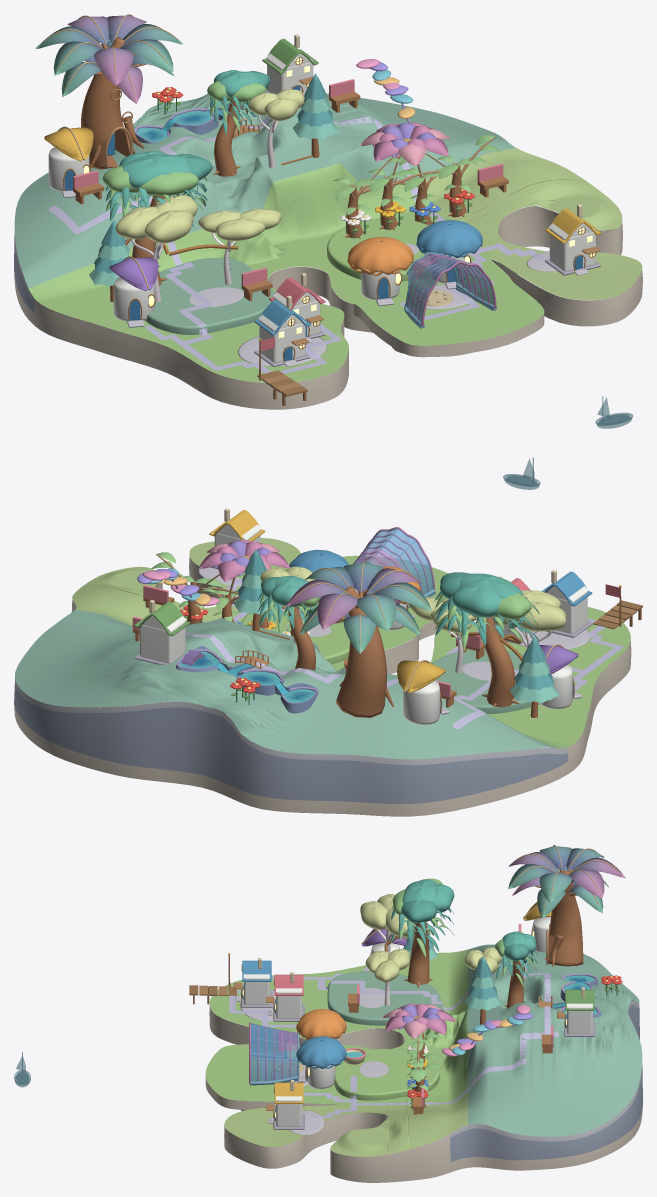
The model's file is study.glb.
3 views of the same model, one above another, from view 1: azimuth 30°, elevation 25°; view 2: azimuth 150°, elevation 25°; view 3: azimuth 270°, elevation 25° (orthographic). The views are drawn at different scales.
Visible parts, largest first — view 1: authored-evaluated-floor, Coast / continuous layered shore:0, grove / living violet and jade lamina, growing-reachable-paths, growing-objects, sculpted tree wood.002, authored-bank.051, Harbor__continuous_translucent_shell_hall_1, home / scalloped blue cap, home / scalloped blue cap.001, house / porcelain plaster.007, role-l14-2234 (+32 smaller); view 2: authored-evaluated-floor, Coast / continuous layered shore:1, Coast / continuous layered shore:0, grove / living violet and jade lamina, Coast / continuous layered shore:2, sculpted tree wood.002, growing-reachable-paths, Harbor__continuous_translucent_shell_hall_1, growing-objects, role-l14-2743, house / porcelain plaster.004, house / porcelain plaster.002 (+27 smaller); view 3: authored-evaluated-floor, Coast / continuous layered shore:0, grove / living violet and jade lamina, Coast / continuous layered shore:1, growing-reachable-paths, sculpted tree wood.002, Harbor__continuous_translucent_shell_hall_1, growing-objects, home / scalloped blue cap.001, home / scalloped blue cap, growing-relation-C02, Coast / continuous layered shore:2 (+23 smaller).
Part boxes in pixels (<box>): authored-evaluated-floor: <box>14,89,642,382</box>; Coast / continuous layered shore:0: <box>14,206,642,409</box>; grove / living violet and jade lamina: <box>35,15,182,103</box>; growing-reachable-paths: <box>49,116,544,373</box>; growing-objects: <box>73,79,506,306</box>; sculpted tree wood.002: <box>81,37,144,169</box>; authored-bank.051: <box>353,304,544,357</box>; Harbor__continuous_translucent_shell_hall_1: <box>406,257,493,322</box>; home / scalloped blue cap: <box>347,237,413,274</box>; home / scalloped blue cap.001: <box>416,220,482,257</box>; house / porcelain plaster.007: <box>548,223,596,271</box>; role-l14-2234: <box>121,154,190,188</box>; authored-evaluated-floor: <box>15,538,630,759</box>; Coast / continuous layered shore:1: <box>14,609,568,804</box>; Coast / continuous layered shore:0: <box>14,555,631,816</box>; grove / living violet and jade lamina: <box>286,562,431,653</box>; Coast / continuous layered shore:2: <box>15,604,567,765</box>; sculpted tree wood.002: <box>336,586,393,717</box>; growing-reachable-paths: <box>185,579,623,728</box>; Harbor__continuous_translucent_shell_hall_1: <box>355,528,433,594</box>; growing-objects: <box>132,585,484,707</box>; role-l14-2743: <box>480,616,515,707</box>; house / porcelain plaster.004: <box>139,616,186,663</box>; house / porcelain plaster.002: <box>403,680,439,724</box>; authored-evaluated-floor: <box>205,944,642,1156</box>; Coast / continuous layered shore:0: <box>209,952,642,1182</box>; grove / living violet and jade lamina: <box>508,846,625,918</box>; Coast / continuous layered shore:1: <box>450,1000,642,1161</box>; growing-reachable-paths: <box>229,960,558,1118</box>; sculpted tree wood.002: <box>544,870,583,966</box>; Harbor__continuous_translucent_shell_hall_1: <box>251,1023,297,1081</box>; growing-objects: <box>275,924,622,1114</box>; home / scalloped blue cap.001: <box>296,1036,346,1068</box>; home / scalloped blue cap: <box>296,1009,346,1039</box>; growing-relation-C02: <box>441,1004,533,1056</box>; Coast / continuous layered shore:2: <box>450,951,642,1141</box>.
Size of the model in its own units: 15.34 by 5.82 by 19.47.
